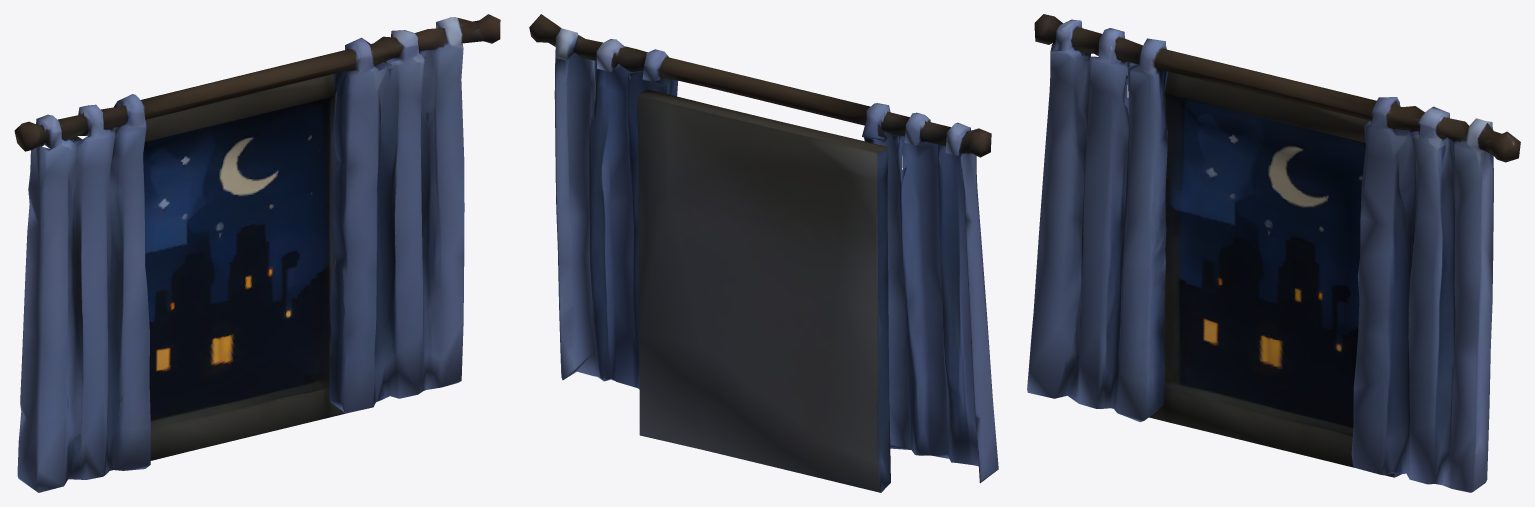
The model's file is windsows.fbx.
3 renders of one model, left to right at view 1: azimuth 30°, elevation 25°; view 2: azimuth 150°, elevation 25°; view 3: azimuth 330°, elevation 25°, orthographic. The views are drawn at different scales.
Parts seen in each view (by area): view 1: meshes[0]; view 2: meshes[0]; view 3: meshes[0].
Part boxes in pixels (x1,y1,x2,y2): meshes[0]: (14,14,500,492); meshes[0]: (529,14,998,492); meshes[0]: (1027,14,1520,492).
Bounding box in the file's own units: 0.9998 × 0.7703 × 0.1249.
1 material, 1 textured.
